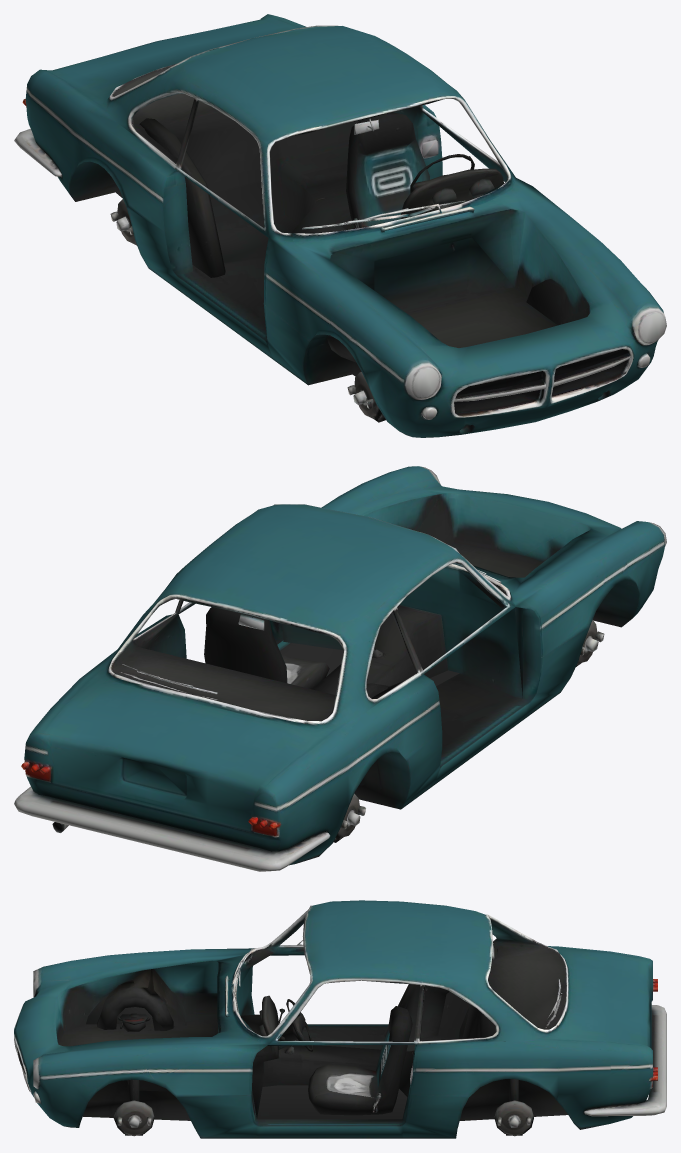
Rendered from optimized_glb.glb.
3 views of the same model, one above another, from view 1: azimuth 30°, elevation 25°; view 2: azimuth 150°, elevation 25°; view 3: azimuth 270°, elevation 25° (orthographic). The views are drawn at different scales.
Visible parts, largest first — view 1: body shell; view 2: body shell; view 3: body shell.
Part boxes in pixels (<box>): body shell: <box>14,14,666,437</box>; body shell: <box>14,466,666,871</box>; body shell: <box>14,900,666,1138</box>.
Bounding box in the file's own units: 0.3965 × 0.2793 × 0.998.
1 material, 1 textured.
